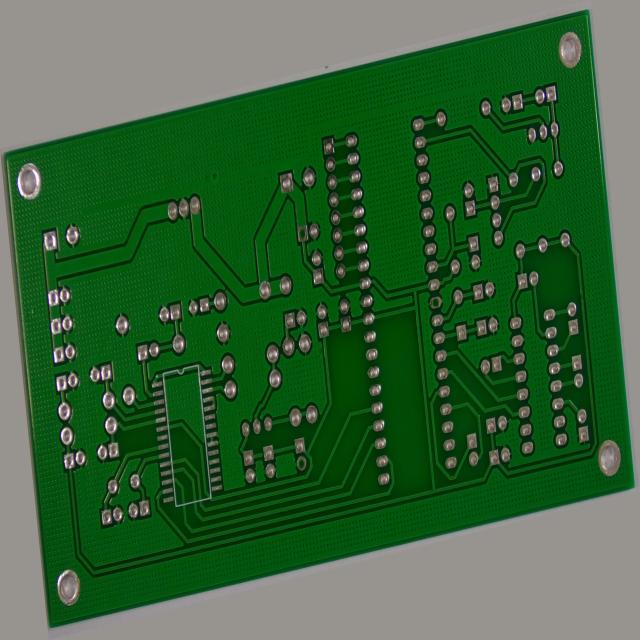missing_hole: (436, 322, 452, 347), (279, 485, 293, 512), (305, 193, 317, 219)
